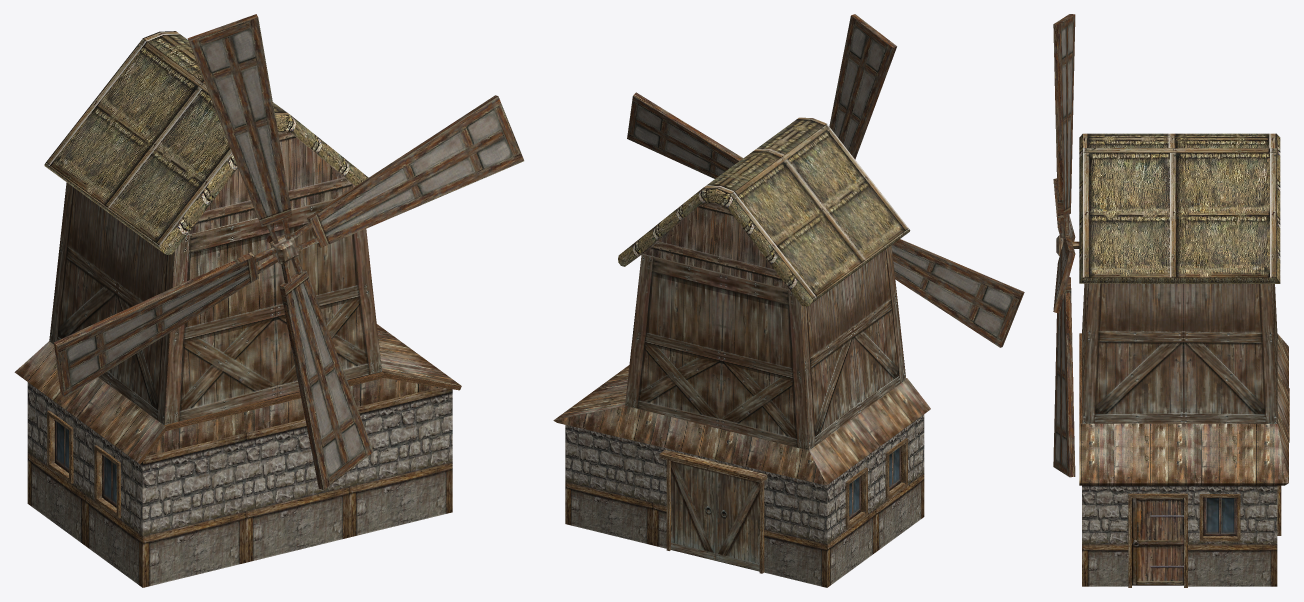
The model's file is rd_mill.glb.
3 views of the same model, side by side, from view 1: azimuth 30°, elevation 25°; view 2: azimuth 150°, elevation 25°; view 3: azimuth 270°, elevation 25° (orthographic). The views are drawn at different scales.
Parts seen in each view (by area): view 1: rd_mill-col; view 2: rd_mill-col; view 3: rd_mill-col.
Boxes of the visible parts, x1,y1,x2,y2 form: rd_mill-col: [14, 14, 524, 587]; rd_mill-col: [553, 14, 1024, 587]; rd_mill-col: [1053, 14, 1289, 587].
Size of the model in its own units: 12.88 by 14.72 by 6.63.
13 materials, 13 textured.
